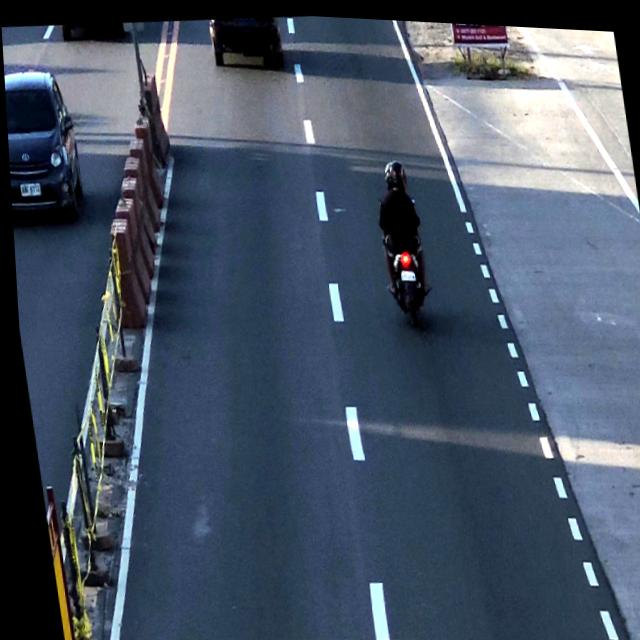License-Plate: (396, 264, 415, 284)
Motorcycle: (367, 151, 433, 335)
